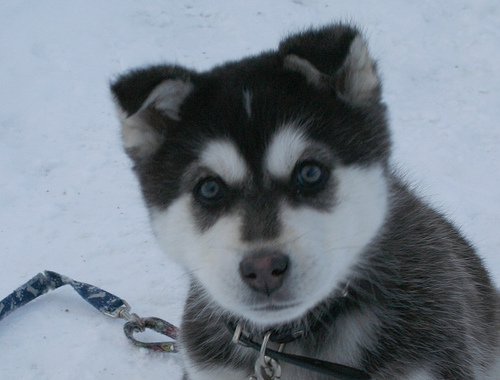dog: (104, 13, 499, 379)
